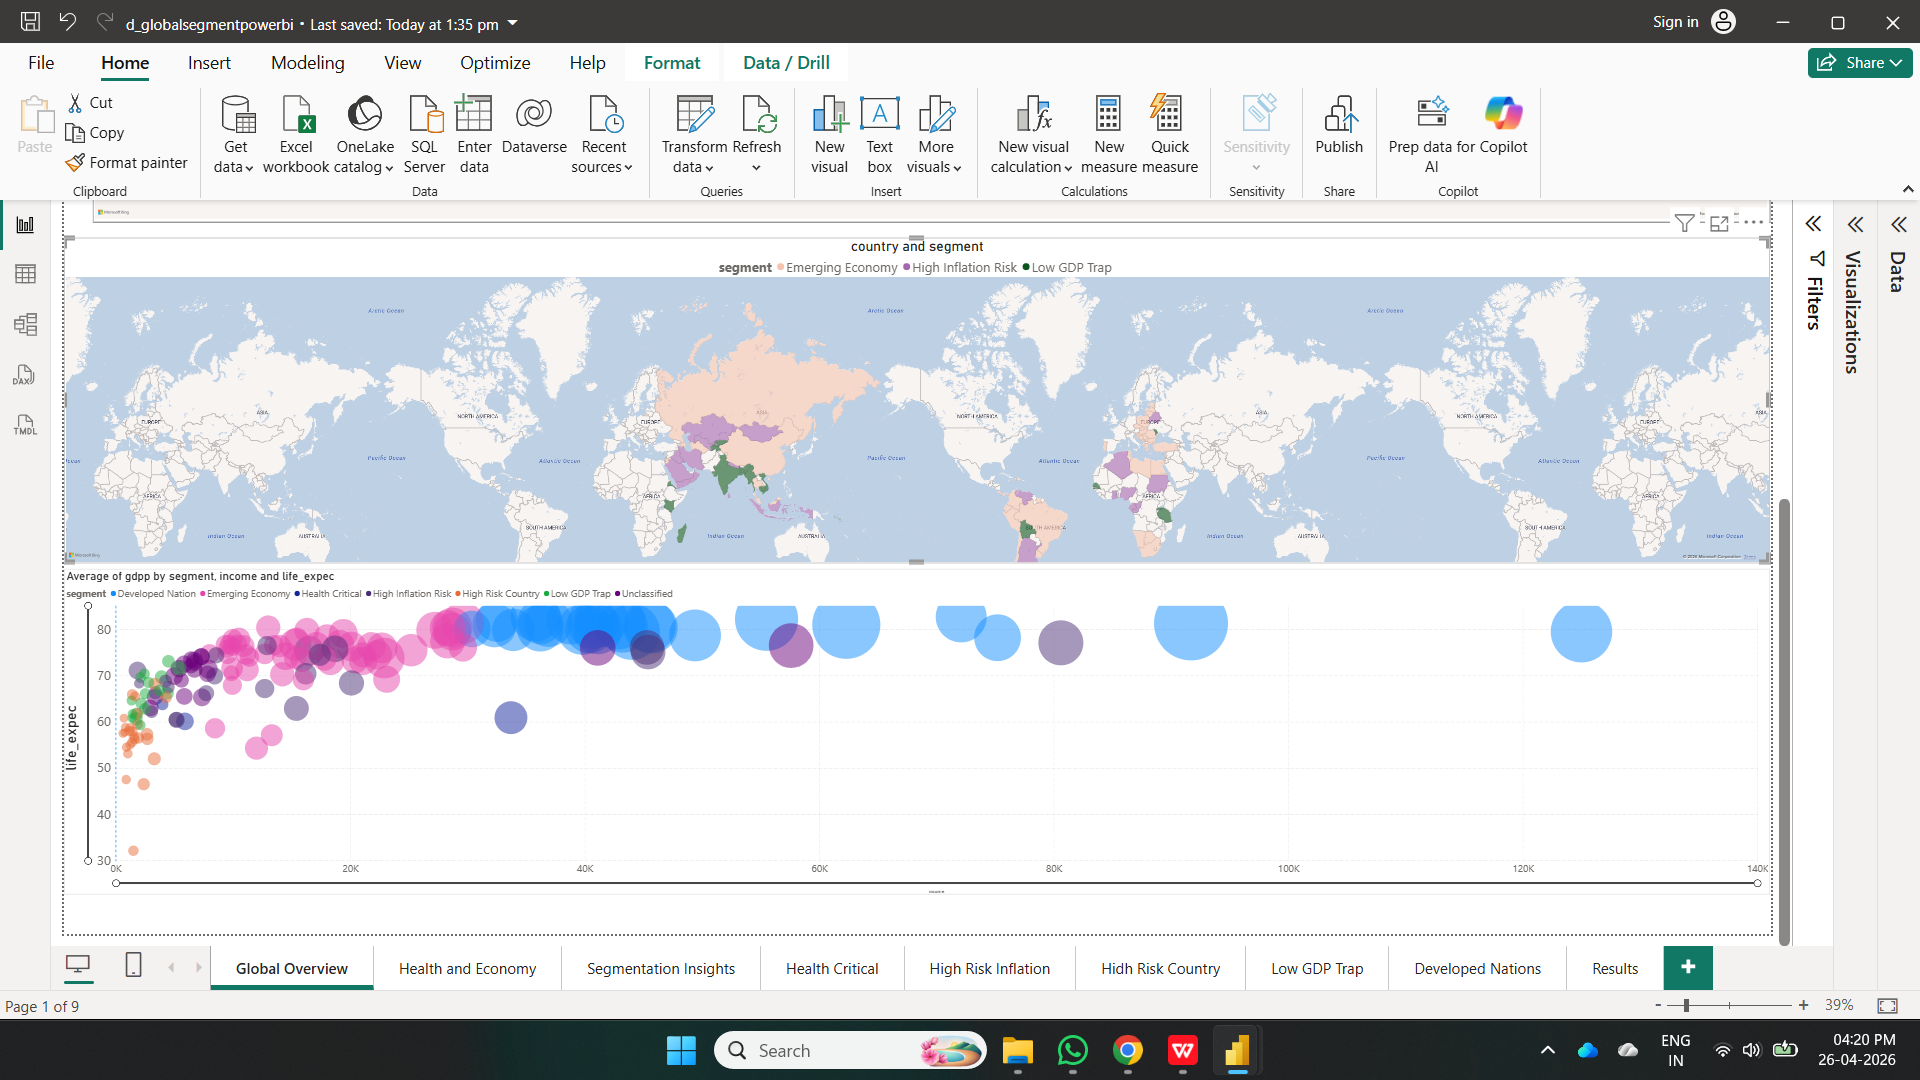

The page's visual inventory and layout, read from the dashboard file:
{"tool":"powerbi","page":{"name":"Global Overview","canvas":[3500,2500],"ordinal":0},"visuals":[{"type":"cardVisual","title":"Key Performance Indicators","fields":{"Data":["Avg(country_clean.income)"]},"box":[59.1,0,850.6,369.2],"z":0},{"type":"cardVisual","title":"Key Performance Indicators","fields":{"Data":["Avg(country_clean.child_mort)"]},"box":[1019,0,797.5,369.2],"z":1000},{"type":"cardVisual","title":"Key Performance Indicators","fields":{"Data":["CountNonNull(country_clean.segment)"]},"box":[2785.2,0,714.8,369.2],"z":2000},{"type":"cardVisual","title":"Key Performance Indicators","fields":{"Data":["Avg(country_clean.life_expec)"]},"box":[1902.1,0,818.1,369.2],"z":3000},{"type":"filledMap","fields":{"Category":["country_clean.country"],"Series":["country_clean.segment"]},"box":[59.4,369.4,3439.2,670.9],"z":4000},{"type":"filledMap","fields":{"Category":["country_clean.country"],"Series":["country_clean.segment"]},"box":[0,1070,3498.7,670.9],"z":5000},{"type":"scatterChart","fields":{"X":["country_clean.income"],"Y":["country_clean.life_expec"],"Series":["country_clean.segment"],"Size":["Avg(country_clean.gdpp)"]},"box":[0,1749.3,3498.7,670.9],"z":6000}]}

Visuals, with their boxes on the page's 3500x2500 design canvas (x1, y1, x2, y2). These are canvas units, not pixel positions in the 1920x1080 screenshot, which may show the page scaled, cropped or inside an application window:
"Key Performance Indicators" cardVisual: box=[59, 0, 910, 369]
"Key Performance Indicators" cardVisual: box=[1019, 0, 1816, 369]
"Key Performance Indicators" cardVisual: box=[2785, 0, 3500, 369]
"Key Performance Indicators" cardVisual: box=[1902, 0, 2720, 369]
filledMap - country_clean.country x country_clean.segment: box=[59, 369, 3499, 1040]
filledMap - country_clean.country x country_clean.segment: box=[0, 1070, 3499, 1741]
scatterChart - country_clean.income x country_clean.life_expec: box=[0, 1749, 3499, 2420]
